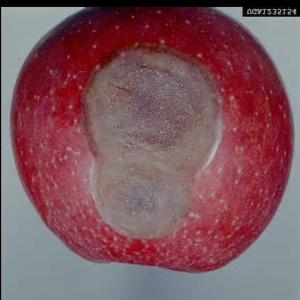rotten apple: (7, 8, 295, 274)
